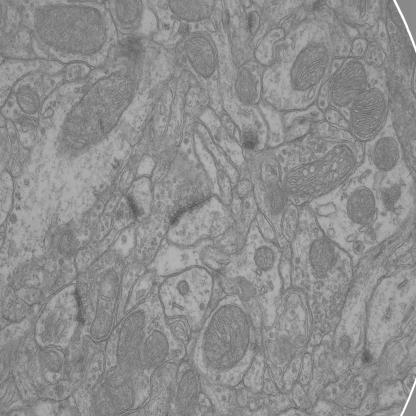mitochondria: (57, 68, 140, 159), (95, 311, 146, 416), (281, 140, 357, 202), (31, 1, 107, 60), (198, 301, 252, 373), (348, 86, 391, 145), (90, 266, 122, 343), (286, 42, 332, 89), (330, 57, 370, 107), (182, 32, 217, 78), (345, 186, 378, 228), (305, 236, 338, 276), (372, 134, 402, 172), (112, 0, 148, 31), (144, 325, 170, 366), (233, 65, 260, 103), (16, 82, 42, 115), (252, 244, 278, 275), (380, 180, 406, 209), (174, 278, 190, 296)
